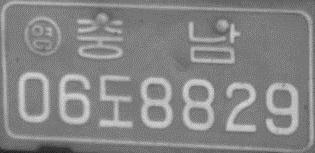0: (16, 70, 52, 125)
2: (224, 80, 258, 135)
6: (57, 72, 92, 126)
8: (180, 77, 216, 132), (138, 76, 173, 129)
9: (264, 81, 300, 136)
도: (97, 74, 134, 129)
영: (22, 15, 62, 57)
충남_D: (75, 15, 240, 64)
